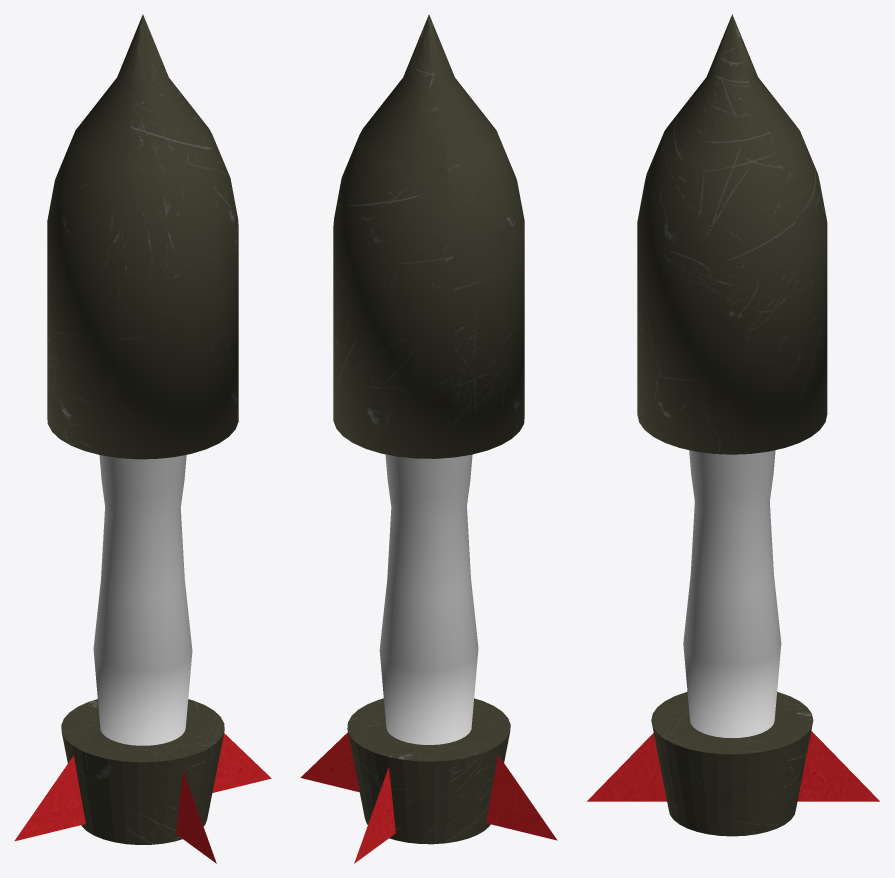
Rendered from homing missile grenade.gltf.
3 views of the same model, side by side, from view 1: azimuth 30°, elevation 25°; view 2: azimuth 150°, elevation 25°; view 3: azimuth 270°, elevation 25° (orthographic).
Parts seen in each view (by area): view 1: Cylinder; view 2: Cylinder; view 3: Cylinder.
Boxes of the visible parts, <box> form: Cylinder: <box>14,14,271,863</box>; Cylinder: <box>300,14,557,863</box>; Cylinder: <box>587,14,879,836</box>.
Bounding box in the file's own units: 6.95 × 20.72 × 6.94.
